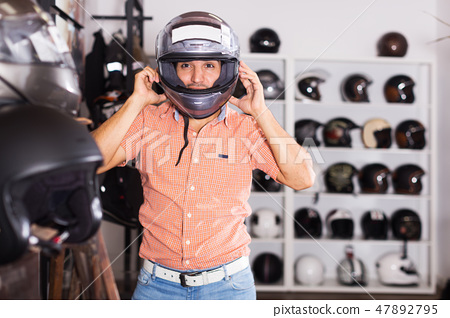helmet: (154, 15, 242, 113)
